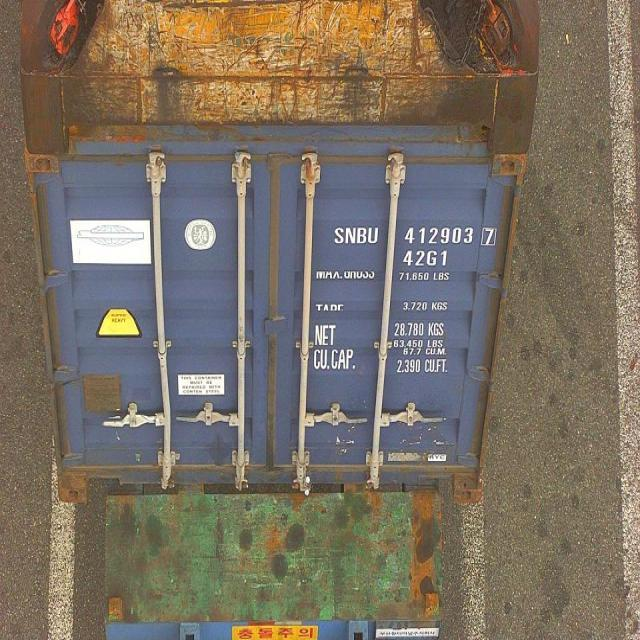ISO: (404, 247, 450, 277)
container_number: (338, 226, 498, 247)
